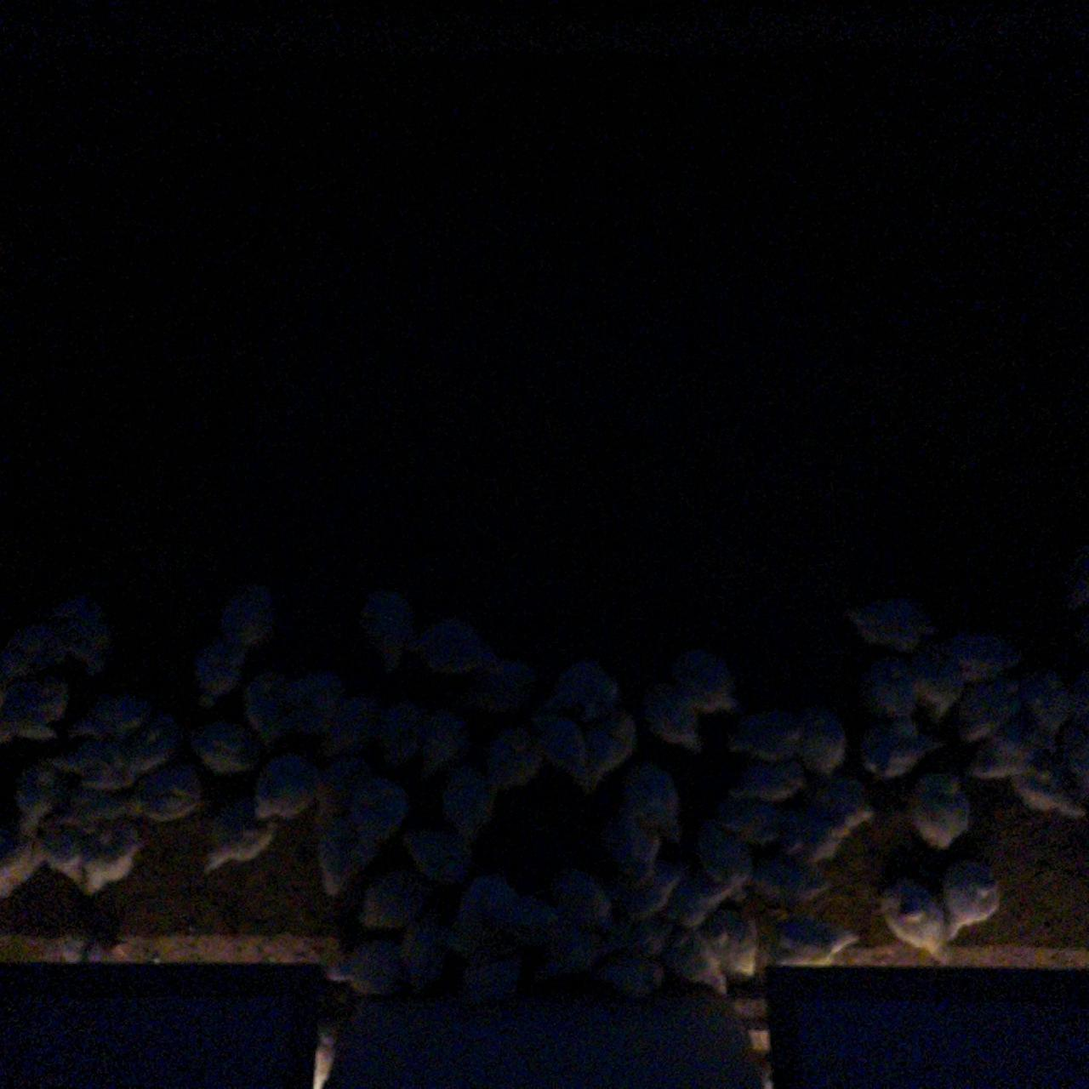chicken: (879, 868, 957, 965), (903, 760, 977, 848), (801, 784, 877, 865), (757, 917, 860, 976), (535, 704, 603, 787), (848, 577, 926, 649), (618, 759, 688, 838), (354, 584, 416, 671), (892, 649, 973, 715), (1018, 747, 1089, 820), (46, 592, 112, 670), (865, 717, 948, 778), (937, 857, 1003, 933), (82, 826, 155, 894), (460, 656, 542, 716), (961, 723, 1042, 783), (355, 867, 431, 930), (321, 936, 406, 992), (389, 921, 450, 999), (0, 678, 71, 744), (442, 761, 503, 837), (315, 816, 373, 894), (346, 772, 403, 851), (1024, 667, 1082, 744), (543, 870, 624, 925), (940, 617, 1018, 674), (537, 919, 611, 979), (207, 812, 282, 871), (551, 654, 623, 715), (642, 678, 705, 747), (664, 874, 738, 932), (0, 618, 63, 686), (192, 632, 248, 707), (413, 614, 485, 672), (584, 705, 641, 778), (254, 755, 319, 819), (665, 926, 728, 992), (406, 824, 475, 884), (497, 714, 550, 791), (728, 750, 800, 806), (699, 929, 771, 985), (469, 939, 530, 1005), (800, 708, 853, 782), (712, 795, 785, 848), (194, 721, 264, 776), (423, 707, 475, 781), (678, 642, 736, 707), (702, 824, 756, 892), (328, 688, 384, 751), (36, 826, 91, 890), (13, 764, 64, 833), (222, 580, 276, 645), (47, 741, 128, 784), (78, 690, 150, 738), (597, 955, 669, 1002), (623, 868, 692, 917), (854, 664, 912, 722), (730, 703, 798, 752), (313, 756, 365, 819), (133, 770, 201, 818), (383, 697, 432, 763), (459, 878, 523, 927), (62, 783, 130, 829), (503, 887, 557, 943), (612, 910, 669, 961), (120, 719, 171, 773), (0, 834, 44, 896), (247, 672, 288, 738), (297, 674, 346, 728), (440, 915, 499, 952)
